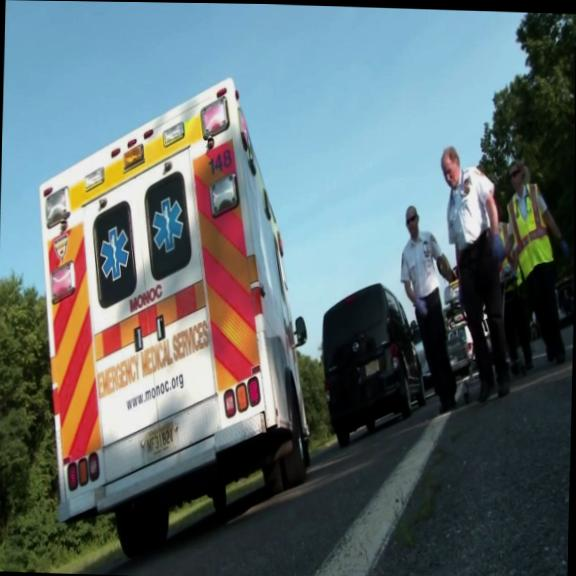safety_vest: (502, 180, 555, 287)
